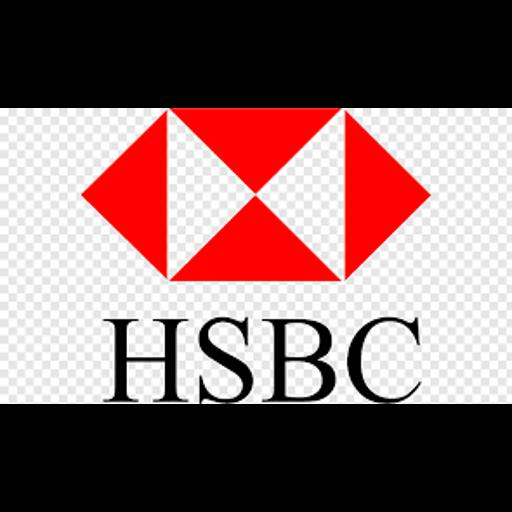HSBC Bank: (0, 108, 512, 404)
